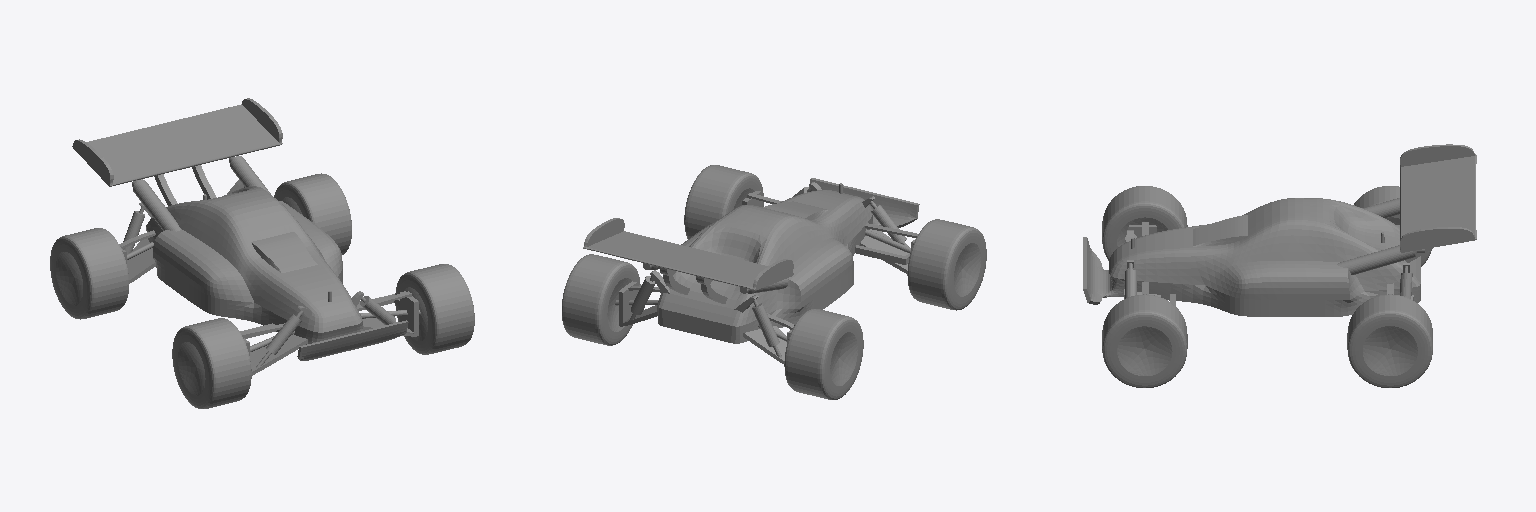
The model's file is Car.obj.
3 renders of one model, left to right at view 1: azimuth 30°, elevation 25°; view 2: azimuth 150°, elevation 25°; view 3: azimuth 270°, elevation 25°, orthographic.
Visible parts, largest first — view 1: 10600_RC__Car_SG_v2_L3; view 2: 10600_RC__Car_SG_v2_L3; view 3: 10600_RC__Car_SG_v2_L3.
Boxes of the visible parts, x1,y1,x2,y2 form: 10600_RC__Car_SG_v2_L3: [50, 98, 474, 408]; 10600_RC__Car_SG_v2_L3: [562, 165, 986, 399]; 10600_RC__Car_SG_v2_L3: [1083, 144, 1476, 387].
Size of the model in its own units: 0.2777 by 0.1404 by 0.359.